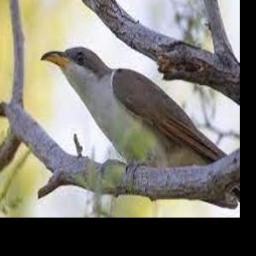Cuckoo: (41, 46, 230, 168)
